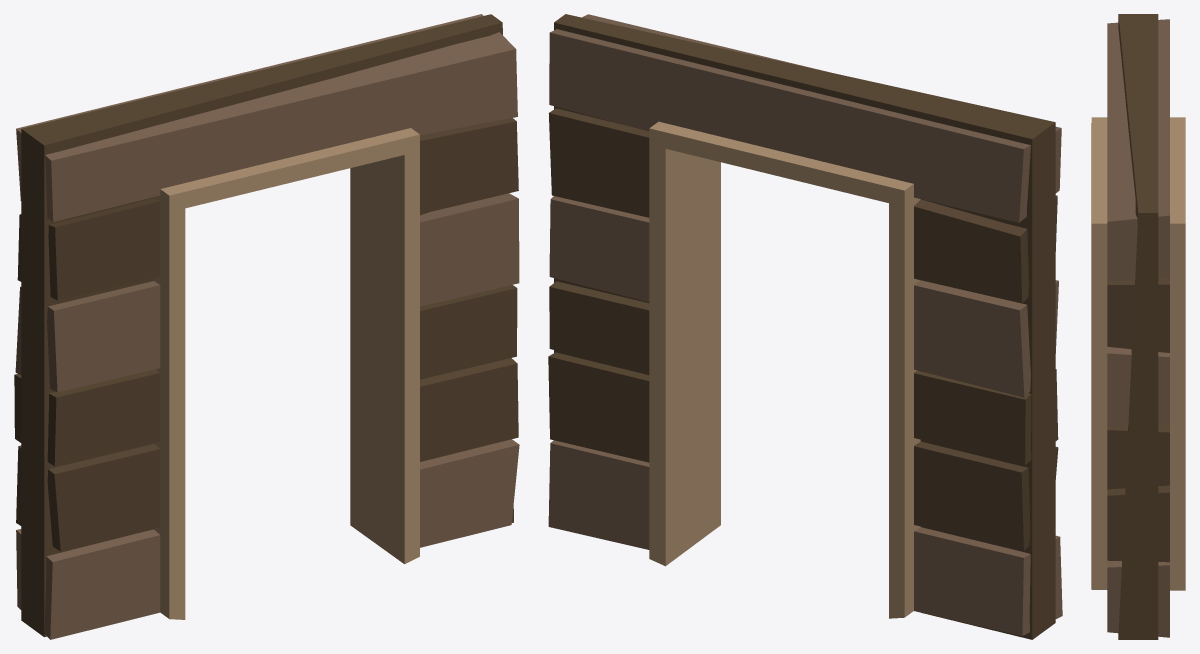
File: enchantedforest_wall_wood_door_2.fbx
3 views of the same model, side by side, from view 1: azimuth 30°, elevation 25°; view 2: azimuth 150°, elevation 25°; view 3: azimuth 270°, elevation 25° (orthographic). The views are drawn at different scales.
Visible parts, largest first — view 1: Cube.012; view 2: Cube.012; view 3: Cube.012.
Boxes of the visible parts, x1,y1,x2,y2 form: Cube.012: [14, 14, 519, 639]; Cube.012: [548, 14, 1062, 639]; Cube.012: [1091, 14, 1185, 639].
Bounding box in the file's own units: 3 × 3.01 × 0.6028.
